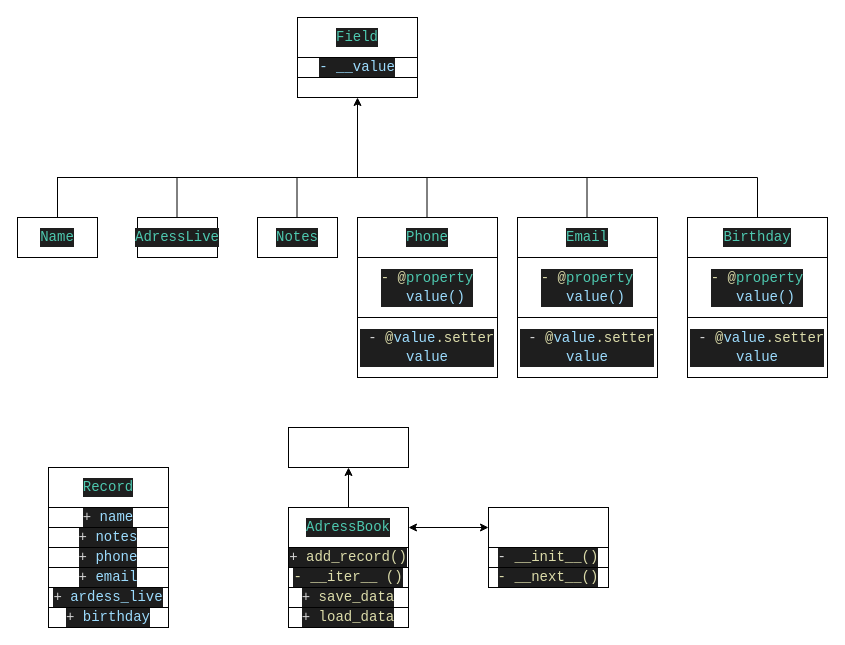
Image size: 845x645. Some labels were removed from this diagram. Here are the shapes that lost their labels. From the top down, the centre of each, then its label:
At (357,87): "+ value".
At (348,447): "UserDict".
At (548,527): "Iterable".
